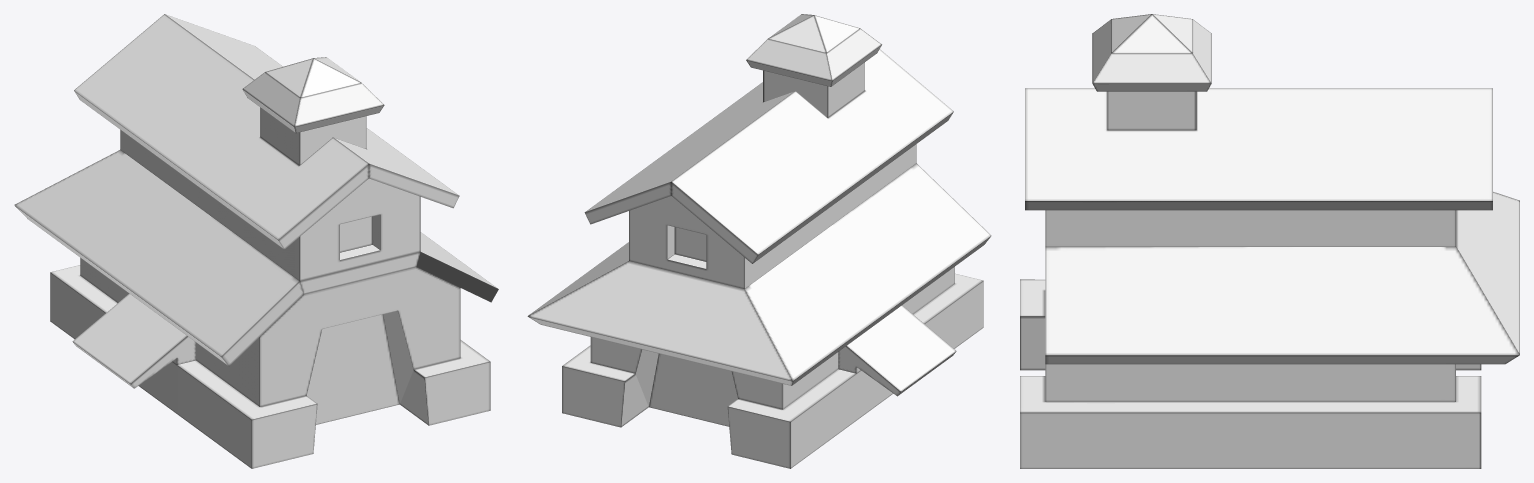
Rendered from Barn-01.fbx.
3 renders of one model, left to right at view 1: azimuth 30°, elevation 25°; view 2: azimuth 150°, elevation 25°; view 3: azimuth 270°, elevation 25°, orthographic. The views are drawn at different scales.
Visible parts, largest first — view 1: Barn_01; view 2: Barn_01; view 3: Barn_01.
Boxes of the visible parts, box(x1,y1,x2,y2) form: Barn_01: box(14, 14, 498, 468); Barn_01: box(527, 14, 991, 468); Barn_01: box(1020, 14, 1519, 468).
Bounding box in the file's own units: 2.04 × 2.17 × 2.53.
